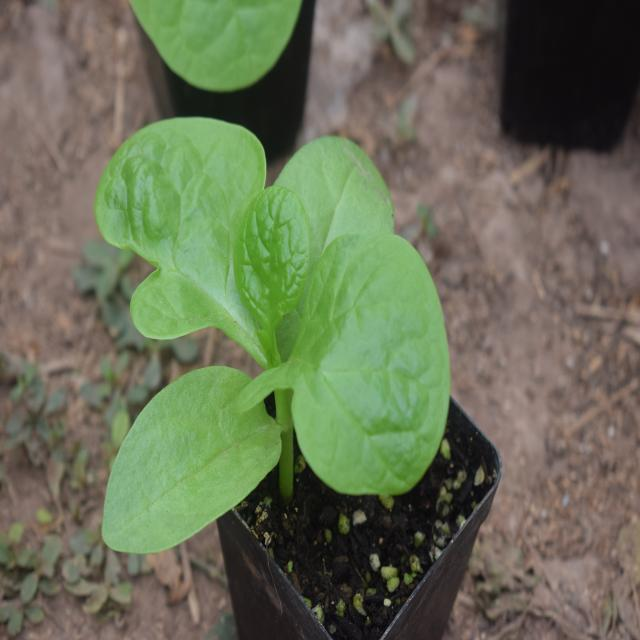Ceylon spinach: (77, 106, 449, 532)
